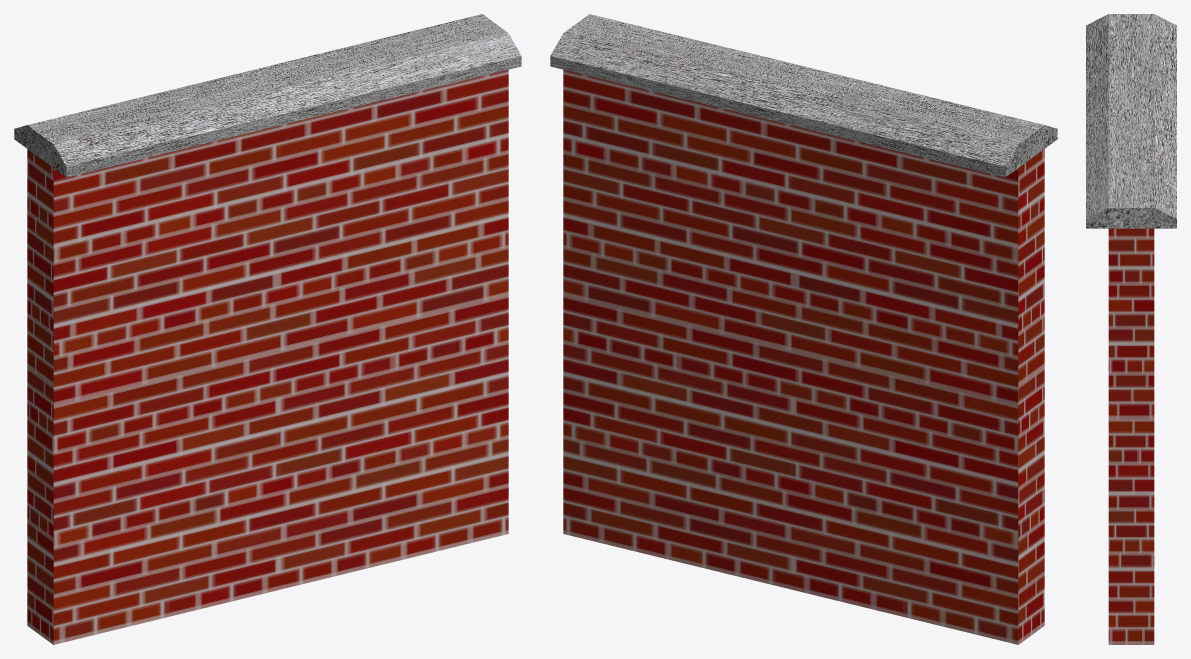
The model's file is Wall.fbx.
3 renders of one model, left to right at view 1: azimuth 30°, elevation 25°; view 2: azimuth 150°, elevation 25°; view 3: azimuth 270°, elevation 25°, orthographic. The views are drawn at different scales.
Visible parts, largest first — view 1: Wall; view 2: Wall; view 3: Wall.
Boxes of the visible parts, left/top/right/bottom form: Wall: left=14, top=14, right=521, bottom=644; Wall: left=550, top=14, right=1057, bottom=644; Wall: left=1086, top=14, right=1176, bottom=644.
Bounding box in the file's own units: 20 × 21.02 × 3.96.
Materials: 2 (2 with a texture image).
